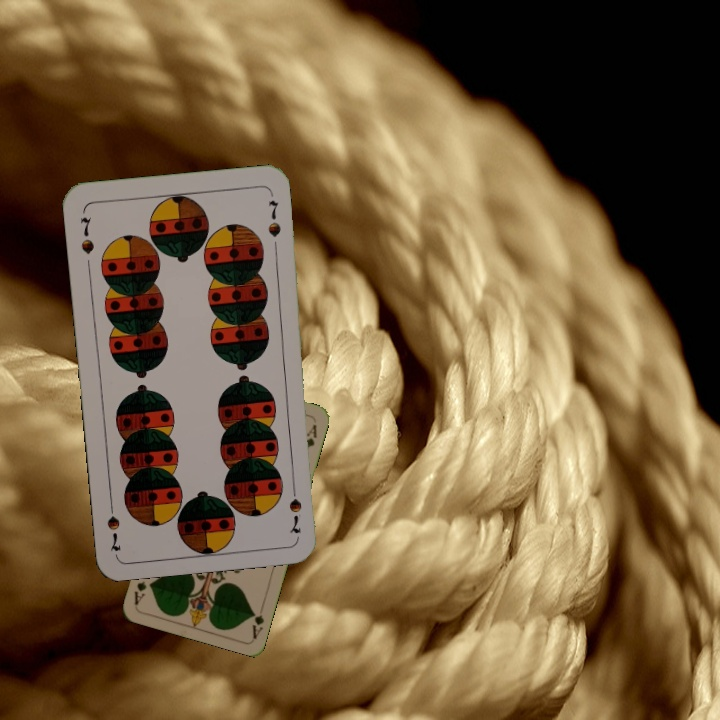GA: (248, 601, 267, 641)
S7: (284, 478, 305, 536), (76, 213, 96, 257)
